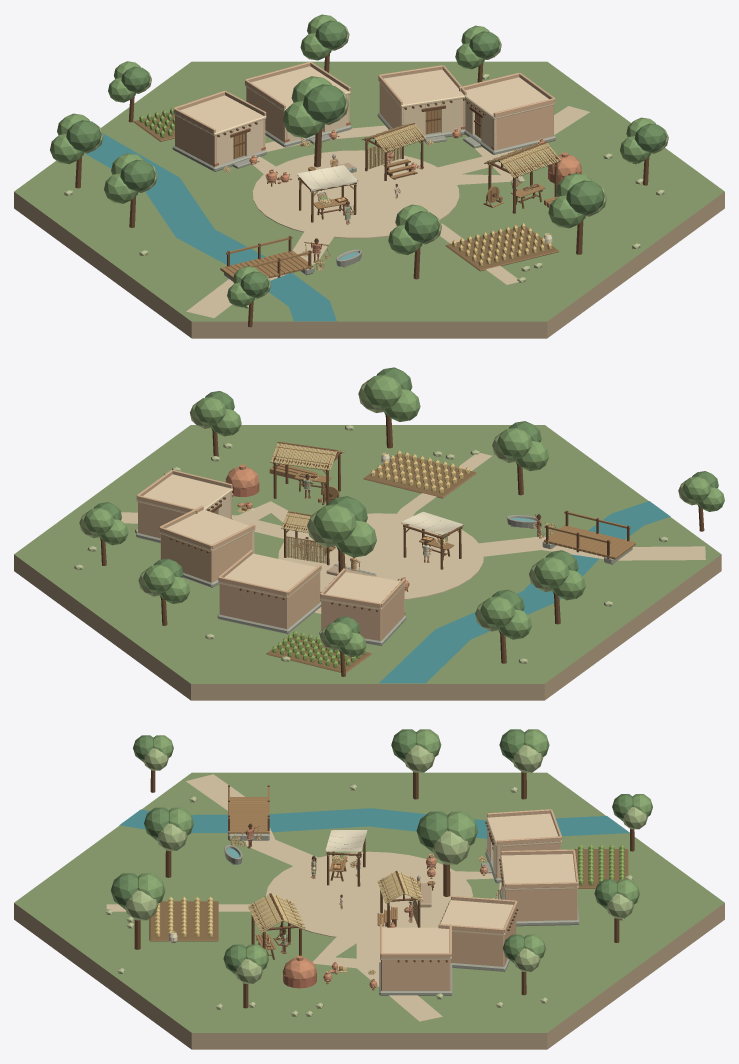
Rendered from first-village.glb.
3 views of the same model, one above another, from view 1: azimuth 30°, elevation 25°; view 2: azimuth 150°, elevation 25°; view 3: azimuth 270°, elevation 25° (orthographic).
Parts seen in each view (by area): view 1: First village · first encounter batched; view 2: First village · first encounter batched; view 3: First village · first encounter batched.
Part boxes in pixels (x1,y1,x2,y2): First village · first encounter batched: [14, 14, 724, 338]; First village · first encounter batched: [14, 367, 724, 700]; First village · first encounter batched: [14, 729, 724, 1049].
Bounding box in the file's own units: 39.84 × 7.21 × 46.
